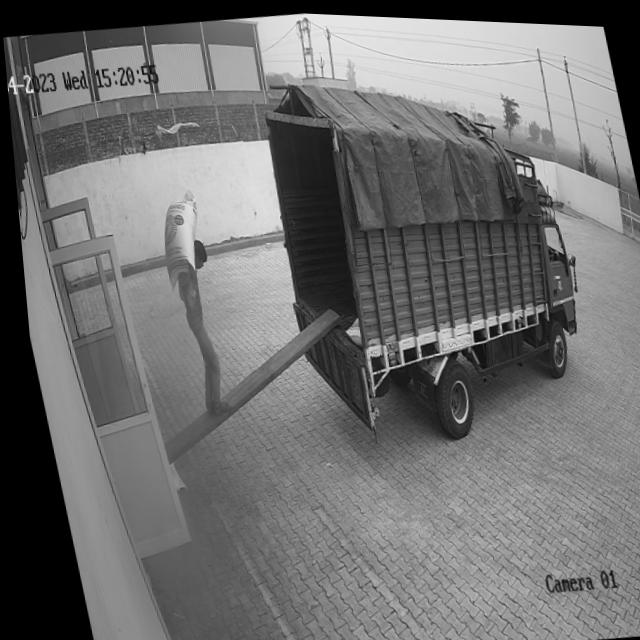sack: (146, 185, 208, 291)
